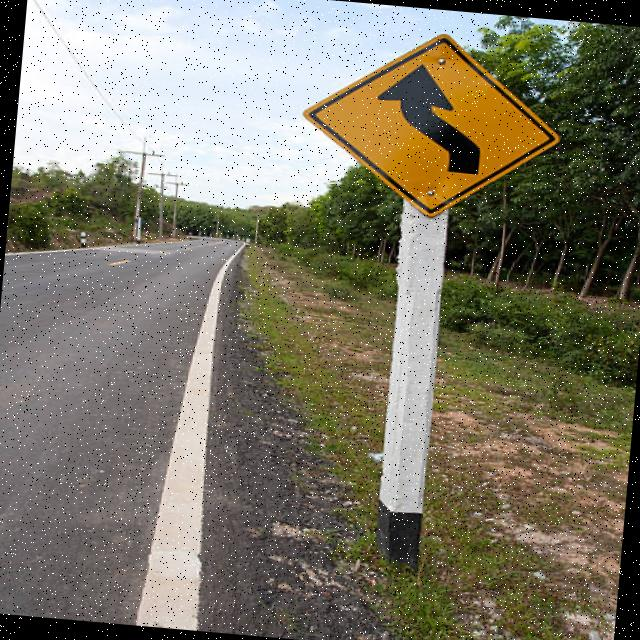left_sharp_curve: (280, 13, 575, 224)
